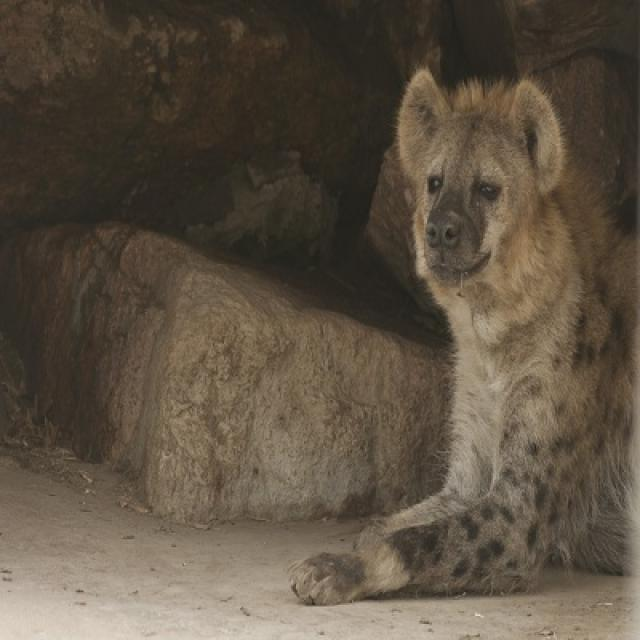hyena: (290, 64, 638, 606)
